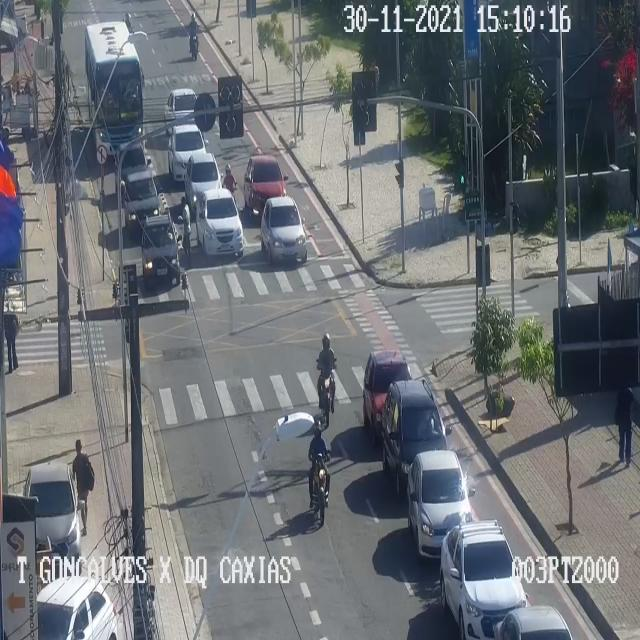Bus: (85, 21, 144, 155)
Car: (440, 520, 526, 639), (381, 380, 447, 494), (407, 450, 473, 556), (25, 463, 81, 573), (37, 576, 117, 639), (363, 349, 412, 442), (195, 188, 243, 255), (260, 196, 306, 262), (494, 605, 572, 639), (244, 154, 286, 217), (141, 216, 179, 284), (184, 152, 221, 211), (123, 170, 159, 228), (168, 124, 205, 180), (164, 88, 204, 138), (114, 142, 148, 191)
Motorcycle: (308, 418, 330, 524), (317, 332, 335, 425), (222, 163, 236, 210), (188, 12, 198, 59), (122, 13, 132, 47)
